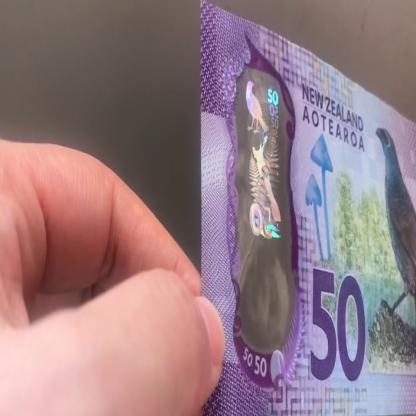50B: (242, 77, 285, 330)
